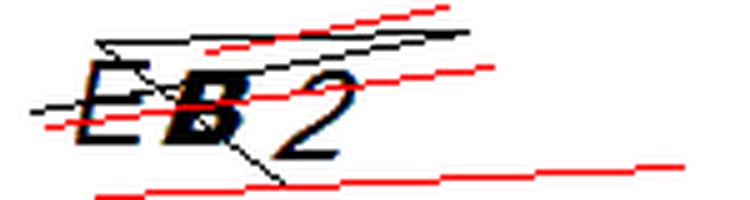2: (267, 66, 379, 169)
B: (154, 63, 260, 153)
E: (67, 52, 158, 155)
